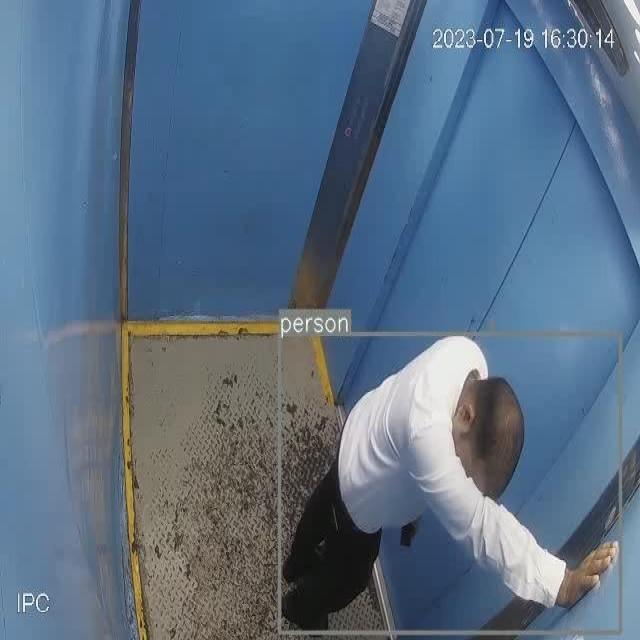person: (283, 333, 621, 631)
